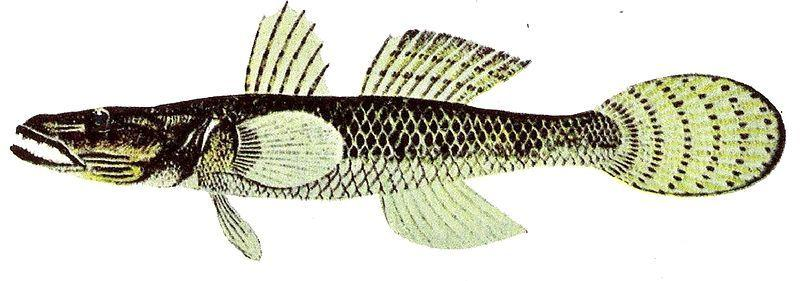Goby: (14, 0, 800, 265)
